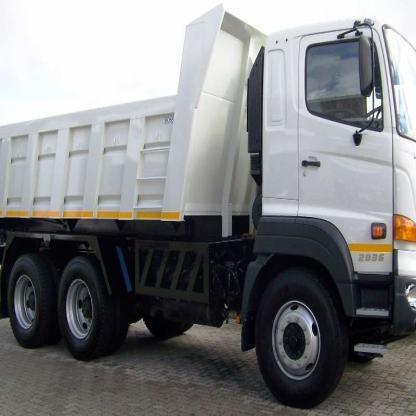dump_truck: (4, 4, 416, 409)
